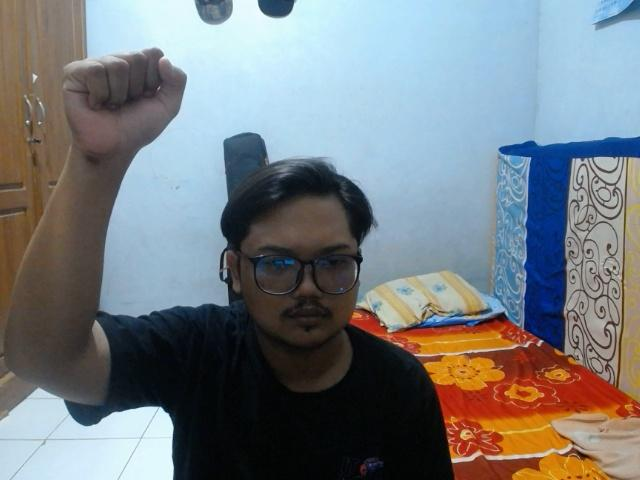Grab: (57, 42, 189, 171)
